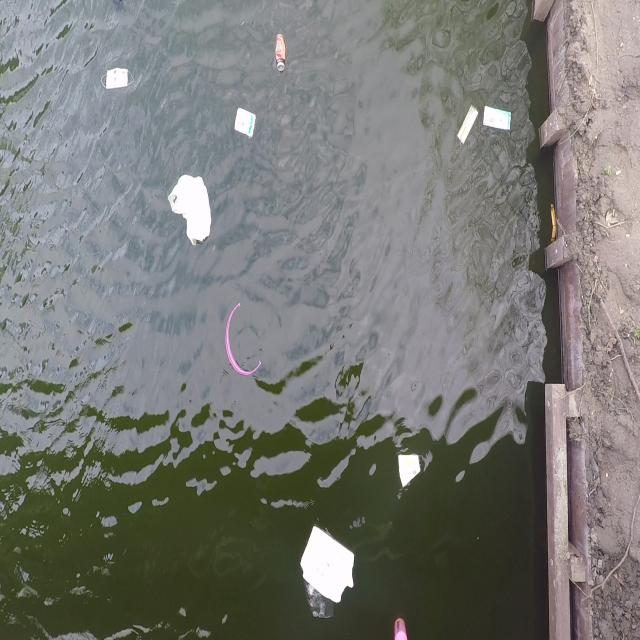Autre plastique: (298, 524, 357, 606), (230, 103, 256, 144)
Non plastique: (451, 98, 481, 154), (93, 64, 136, 97), (478, 99, 518, 134), (396, 447, 427, 492), (271, 31, 293, 73)
Sac plastique: (165, 169, 218, 253)
